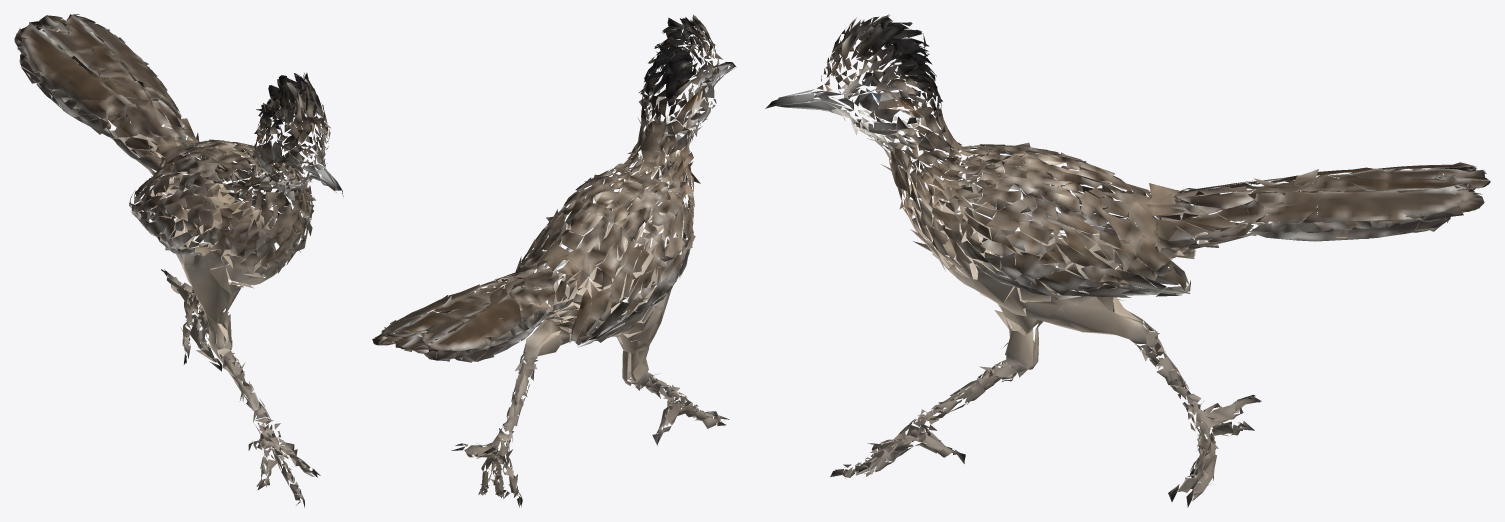
Rendered from roadrunner.glb.
3 renders of one model, left to right at view 1: azimuth 30°, elevation 25°; view 2: azimuth 150°, elevation 25°; view 3: azimuth 270°, elevation 25°, orthographic. The views are drawn at different scales.
Visible parts, largest first — view 1: LO.001; view 2: LO.001; view 3: LO.001.
Boxes of the visible parts, <box> form: LO.001: <box>14,14,343,507</box>; LO.001: <box>372,14,736,507</box>; LO.001: <box>765,14,1490,507</box>.
Size of the model in its own units: 0.4586 by 1.38 by 1.91.
1 material, 1 textured.
